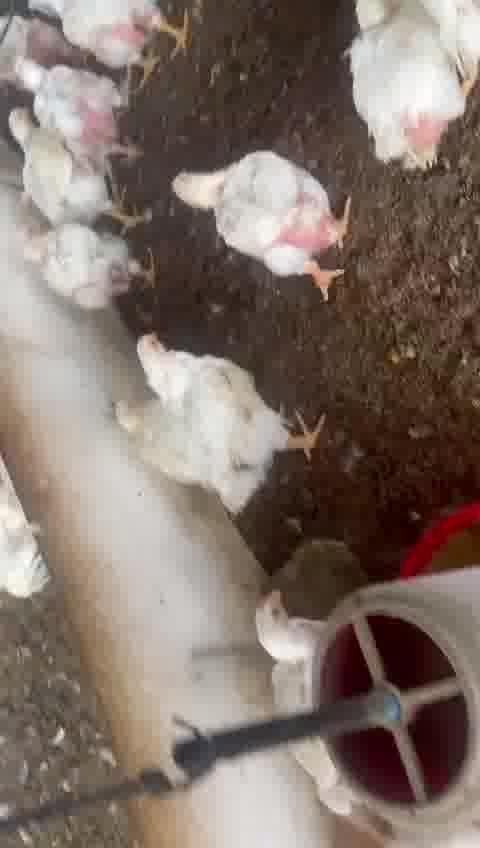AbNormal: (252, 571, 361, 813), (105, 392, 187, 478)
Normal: (139, 326, 322, 485), (168, 153, 365, 300), (338, 0, 463, 171), (9, 212, 150, 307), (15, 54, 146, 153), (0, 108, 106, 226)
